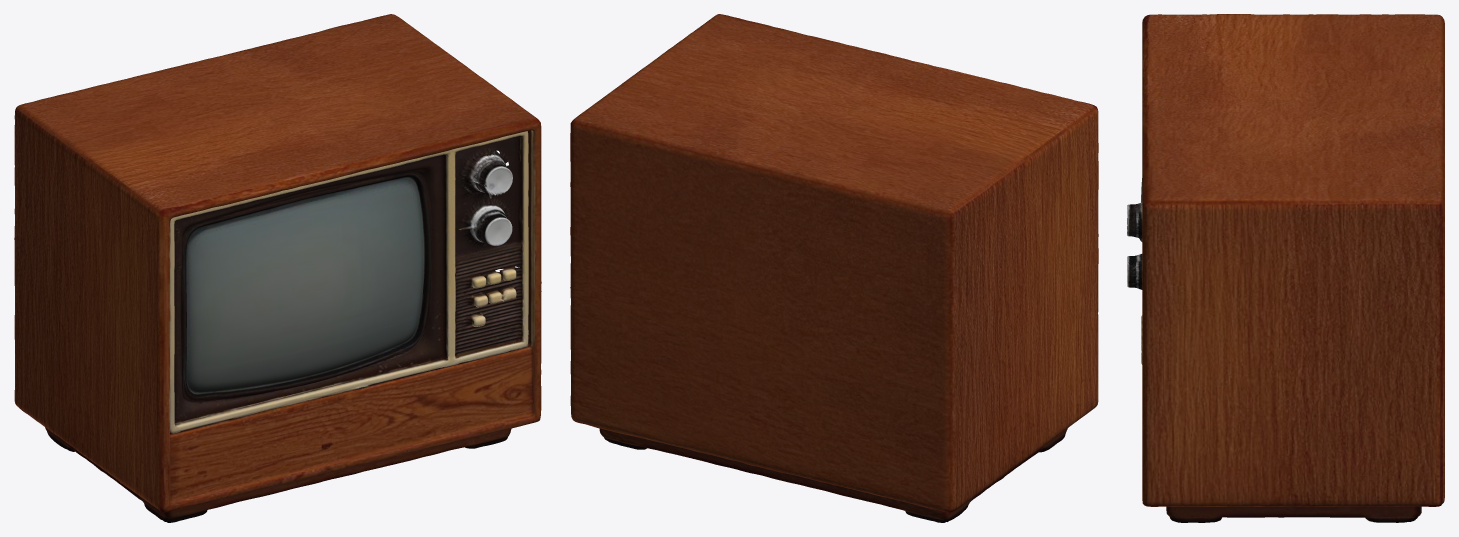
Rendered from menu_tv_continue.glb.
3 views of the same model, side by side, from view 1: azimuth 30°, elevation 25°; view 2: azimuth 150°, elevation 25°; view 3: azimuth 270°, elevation 25° (orthographic).
Parts seen in each view (by area): view 1: tripo_node_98c508bb; view 2: tripo_node_98c508bb; view 3: tripo_node_98c508bb.
Part boxes in pixels (bbox=[...]): tripo_node_98c508bb: bbox=[14, 14, 541, 522]; tripo_node_98c508bb: bbox=[570, 14, 1098, 522]; tripo_node_98c508bb: bbox=[1127, 14, 1444, 522].
Size of the model in its own units: 97.88 by 79.63 by 69.26.
1 material, 1 textured.
